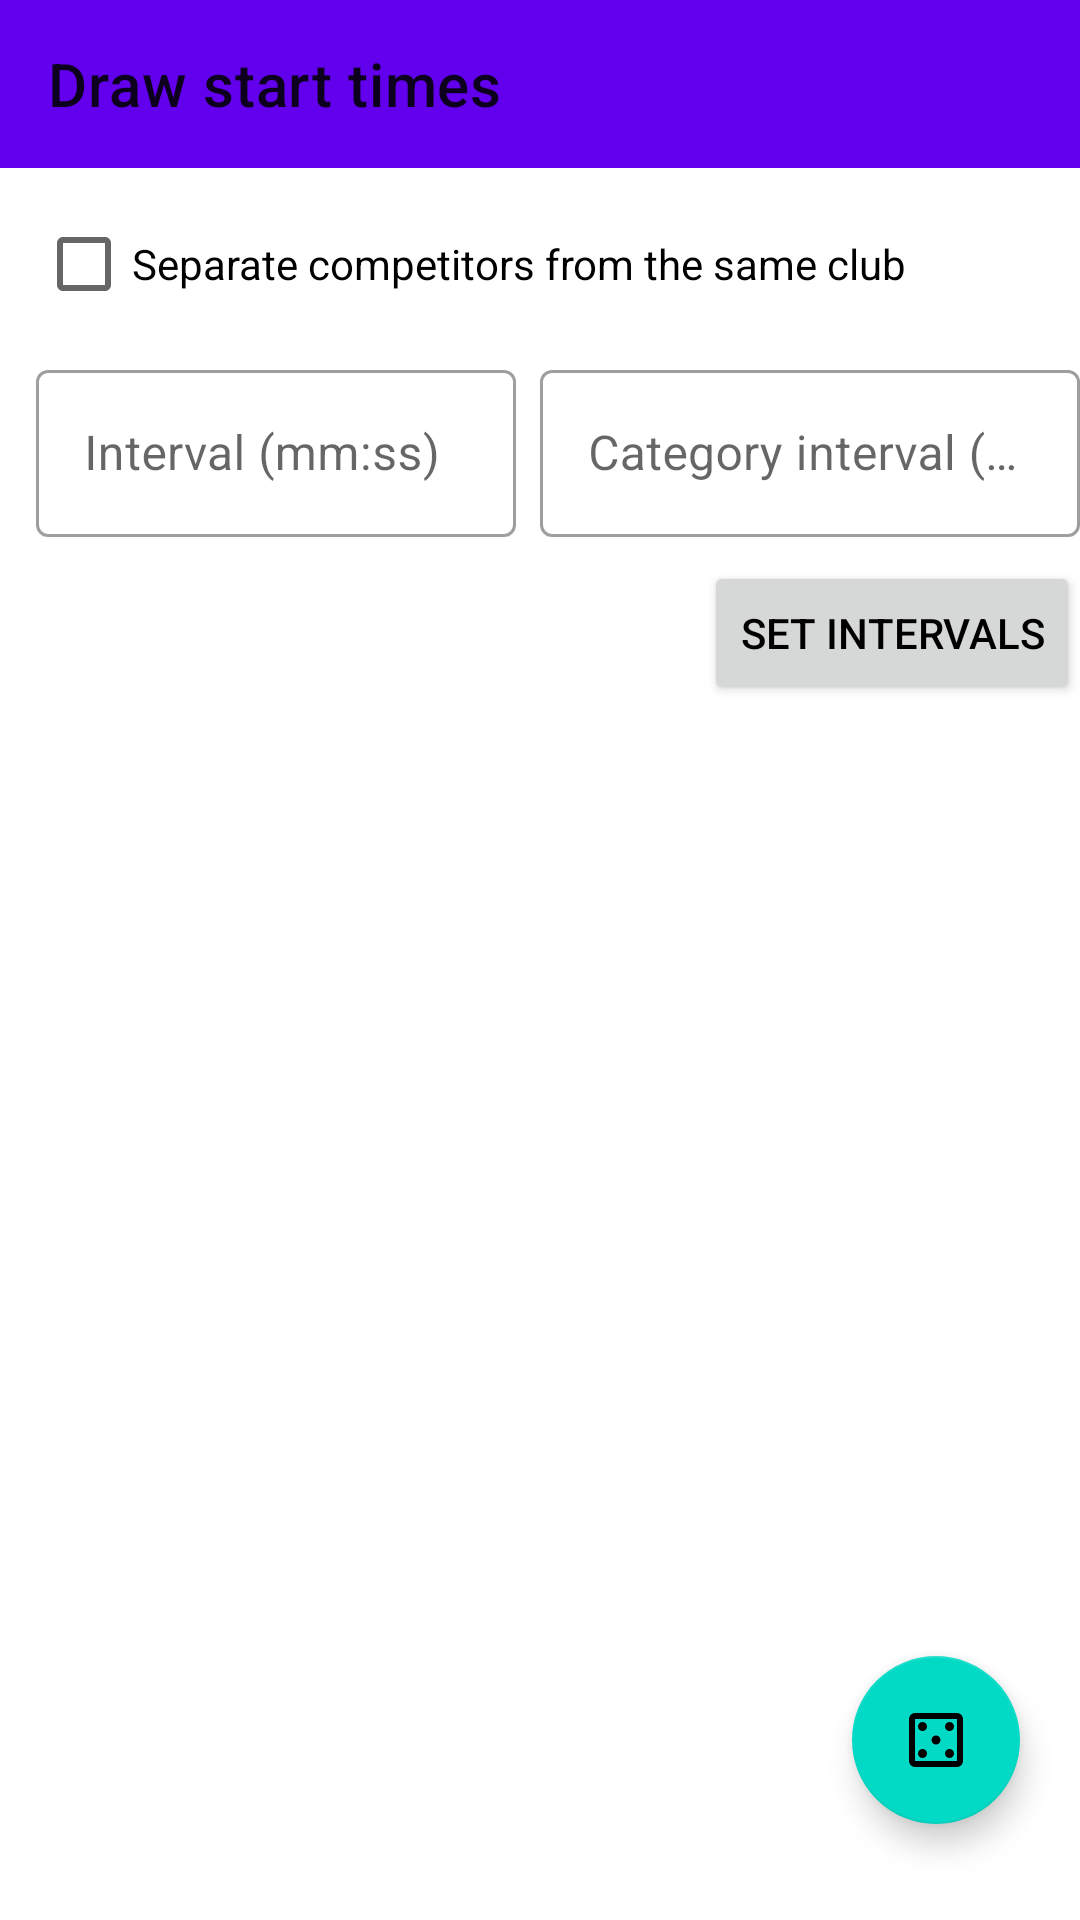

Icon click points for this 1080px x 1920px phone screenshot, format (x=x, y=y):
draw: (x=936, y=1740)
